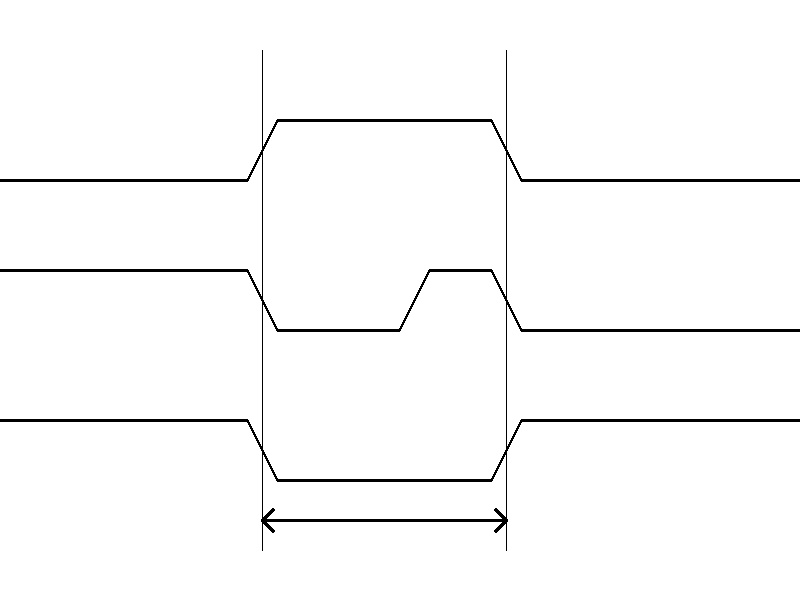double_arrow: (262, 505, 506, 535)
